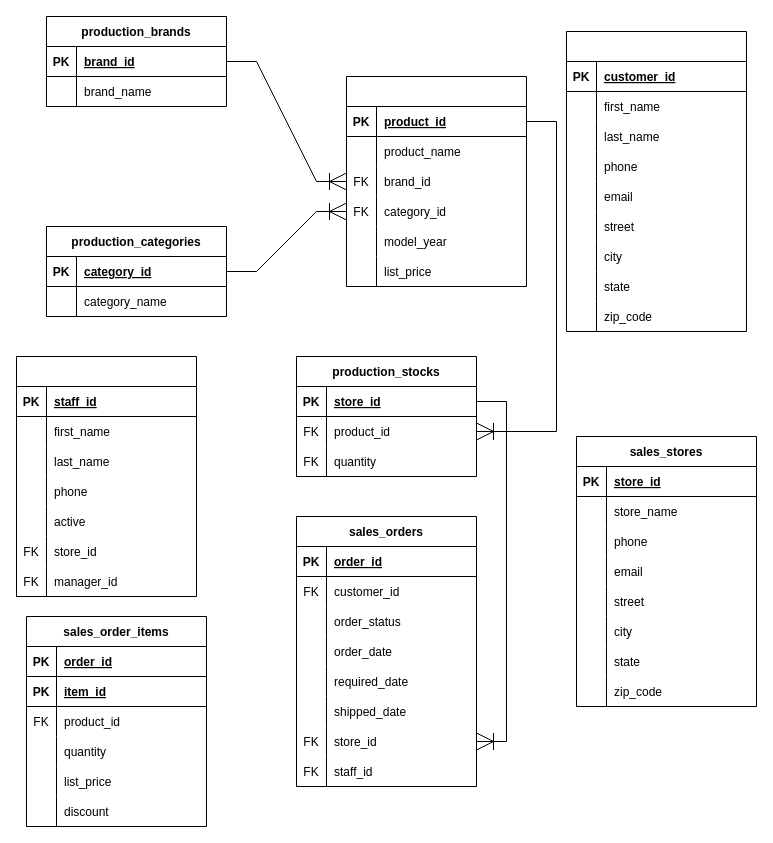
Image size: 773x843. Some labels were removed from this diagram. Here are the shapes that lost their labels. From the top down, the box of each, then its label:
(346, 76, 526, 286): production_products
(566, 30, 746, 332): sales_customers
(16, 356, 196, 596): sales_staffs
